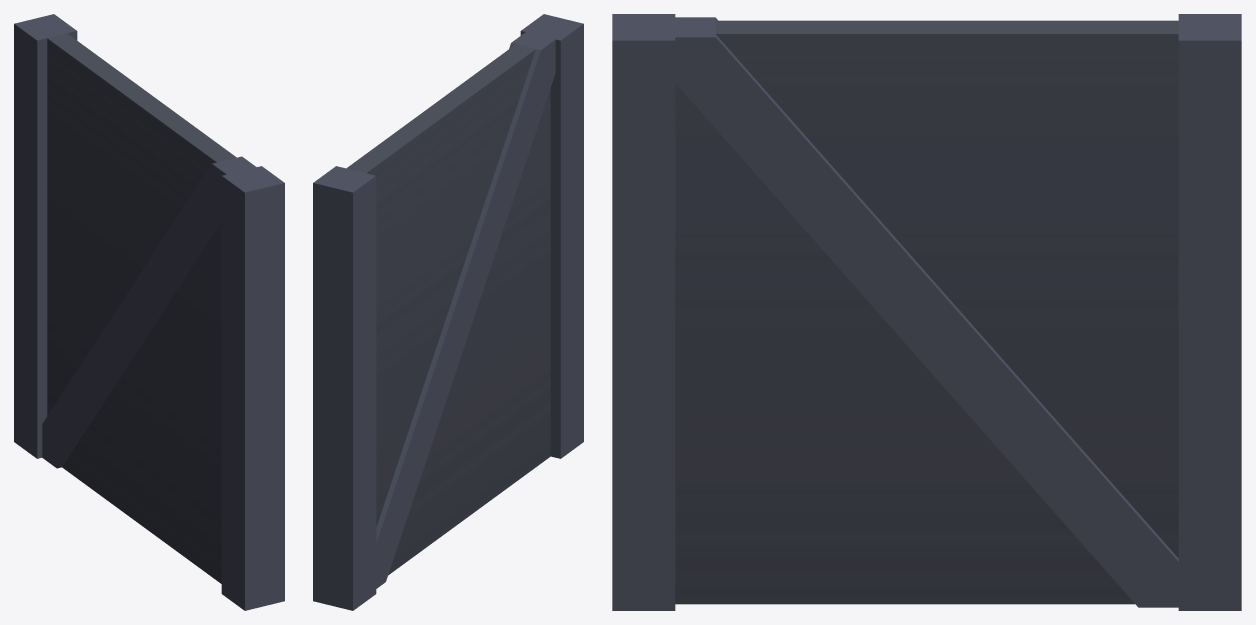
Rendered from wall-detail-diagonal.glb.
3 renders of one model, left to right at view 1: azimuth 30°, elevation 25°; view 2: azimuth 150°, elevation 25°; view 3: azimuth 270°, elevation 25°, orthographic. The views are drawn at different scales.
Visible parts, largest first — view 1: wall-detail-diagonal; view 2: wall-detail-diagonal; view 3: wall-detail-diagonal.
Boxes of the visible parts, box(x1,y1,x2,y2) form: wall-detail-diagonal: box(14, 14, 284, 610); wall-detail-diagonal: box(313, 14, 583, 610); wall-detail-diagonal: box(612, 14, 1241, 610).
Size of the model in its own units: 0.1 by 1 by 1.
Materials: 1 (1 with a texture image).
